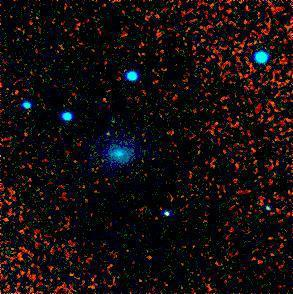star: (94, 118, 124, 148)
